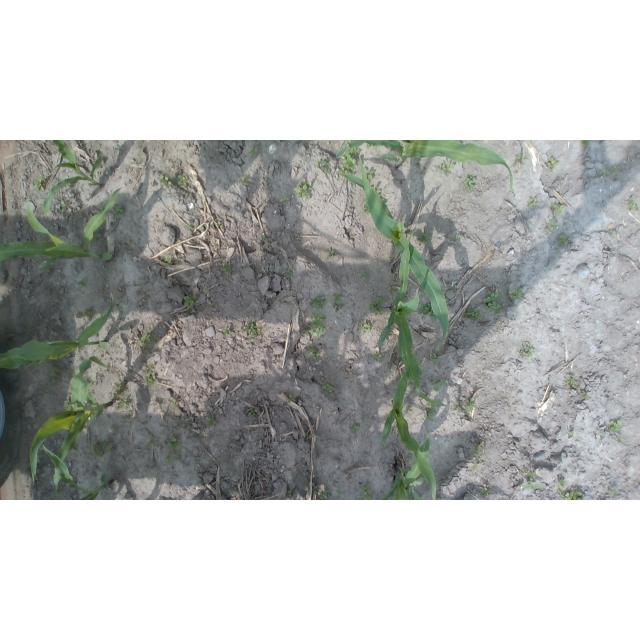Maize: (339, 150, 451, 351), (379, 227, 450, 410), (30, 357, 113, 497), (0, 188, 122, 268), (335, 140, 514, 192), (0, 292, 110, 370), (383, 358, 438, 500), (41, 140, 103, 217), (41, 442, 115, 500), (373, 433, 432, 500)
Weeds: (338, 140, 362, 180), (302, 314, 326, 339), (111, 380, 131, 409), (482, 290, 502, 315), (405, 475, 424, 500), (91, 439, 115, 458), (418, 303, 439, 322), (241, 320, 260, 340), (45, 365, 62, 387), (141, 331, 160, 350), (367, 297, 387, 315), (142, 364, 156, 387), (296, 178, 312, 198), (460, 174, 477, 192), (438, 159, 455, 177), (429, 376, 447, 392), (309, 296, 329, 310), (561, 489, 586, 500), (92, 223, 105, 244), (315, 158, 332, 174), (371, 184, 385, 203), (464, 397, 477, 417), (464, 306, 480, 322), (319, 379, 335, 395), (522, 480, 545, 491), (519, 342, 534, 358), (165, 437, 181, 452), (33, 175, 48, 191), (359, 484, 373, 501), (546, 217, 559, 235), (550, 202, 565, 217), (182, 294, 196, 310), (417, 228, 430, 245), (163, 255, 180, 268), (331, 292, 343, 310), (566, 374, 579, 390), (144, 436, 160, 449), (424, 405, 436, 422), (362, 166, 376, 180), (547, 158, 560, 173), (62, 397, 75, 412), (111, 206, 126, 219), (508, 288, 524, 300), (173, 174, 189, 186), (160, 175, 173, 189), (320, 485, 332, 500), (468, 442, 483, 454), (609, 420, 622, 433), (523, 467, 537, 479), (307, 346, 319, 360), (555, 479, 566, 494), (163, 454, 178, 465), (627, 198, 639, 211), (516, 152, 529, 164), (362, 199, 371, 216), (558, 235, 570, 247), (359, 322, 371, 334), (206, 415, 218, 427), (87, 378, 98, 391), (279, 194, 290, 207), (247, 147, 260, 158), (83, 307, 93, 321), (184, 225, 204, 232), (481, 484, 492, 496), (240, 175, 252, 186), (527, 198, 538, 209), (371, 352, 382, 363), (359, 270, 370, 281), (248, 408, 259, 419), (311, 482, 321, 494), (223, 264, 233, 276), (580, 386, 589, 399), (60, 200, 69, 213), (388, 285, 399, 295), (351, 423, 361, 433), (326, 247, 334, 259), (429, 353, 439, 362), (608, 486, 619, 494), (599, 169, 610, 177), (170, 399, 178, 410), (454, 402, 463, 411), (288, 394, 297, 403), (77, 280, 86, 289), (581, 140, 591, 148), (221, 327, 231, 335), (44, 265, 52, 275), (568, 430, 576, 439), (284, 270, 292, 279), (261, 235, 270, 243), (214, 221, 224, 228), (455, 234, 463, 242), (285, 491, 293, 499), (407, 405, 414, 414), (611, 165, 621, 171), (337, 489, 343, 499), (419, 365, 425, 375), (616, 437, 625, 443), (598, 432, 604, 439), (452, 285, 458, 292), (442, 476, 448, 483), (306, 433, 312, 439), (114, 147, 122, 151), (273, 296, 279, 301), (610, 231, 617, 235), (367, 144, 372, 149), (140, 158, 145, 163), (140, 148, 144, 153), (209, 303, 215, 306)
